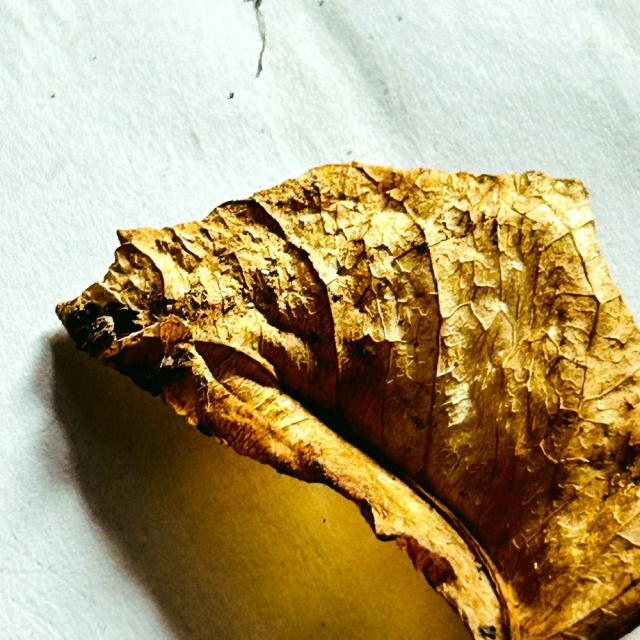DryLeaf_Lemon: (56, 163, 639, 639)
